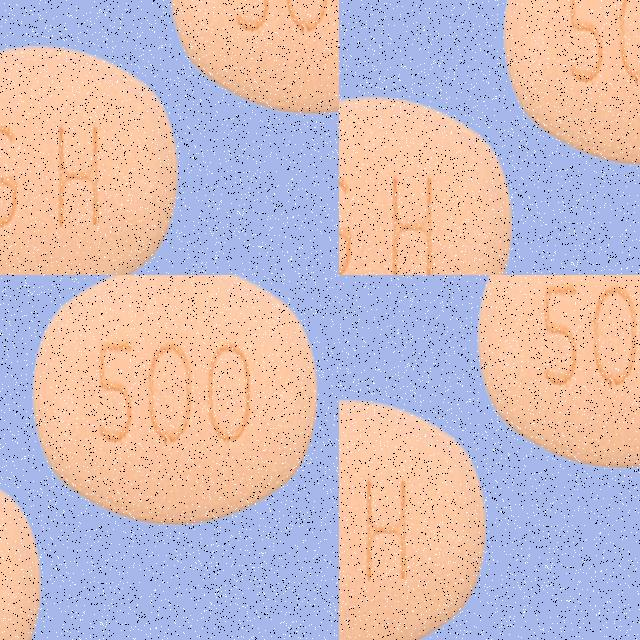Lesacra: (339, 0, 472, 275), (516, 0, 640, 275)
Levona: (339, 400, 487, 640), (477, 275, 640, 465)
Rpclari Tab: (0, 46, 189, 275), (165, 0, 339, 105)
Samsung Clarithromycin Tab-500mg: (20, 275, 316, 518)
